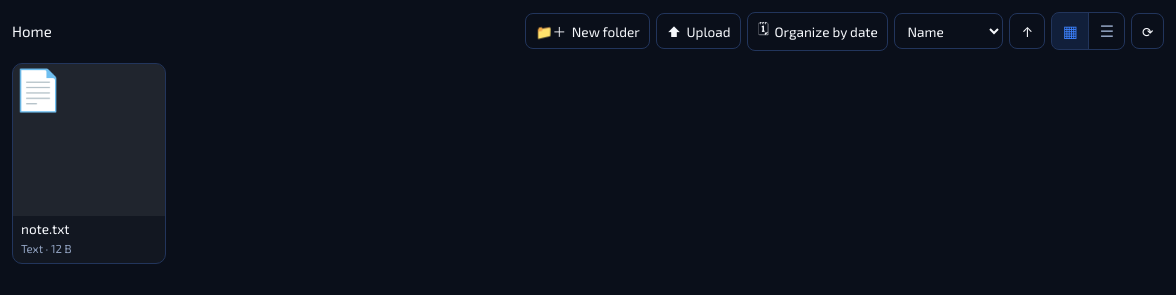
Test: FolderBrowser (Files UI v2) › opens the details panel for a non-media file
The image size is (1176, 295).
Click the button with aria-label "Open note.txt": (89, 163) [13,64,165,263]
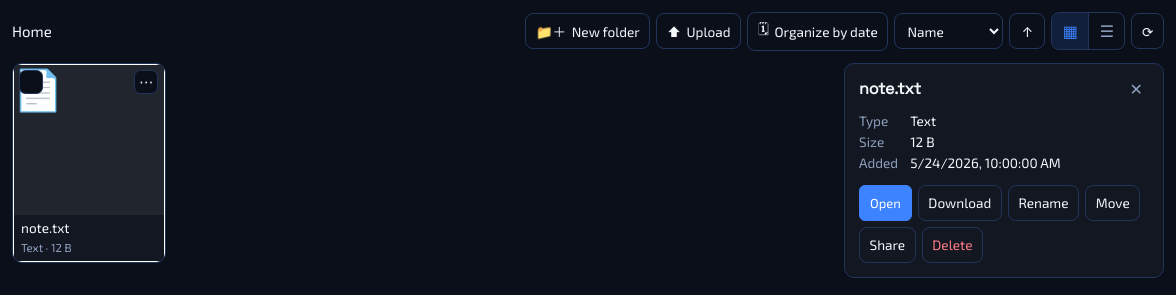
Check: the element named "Details: note.txt" is shown, box [844,63,1164,278]
